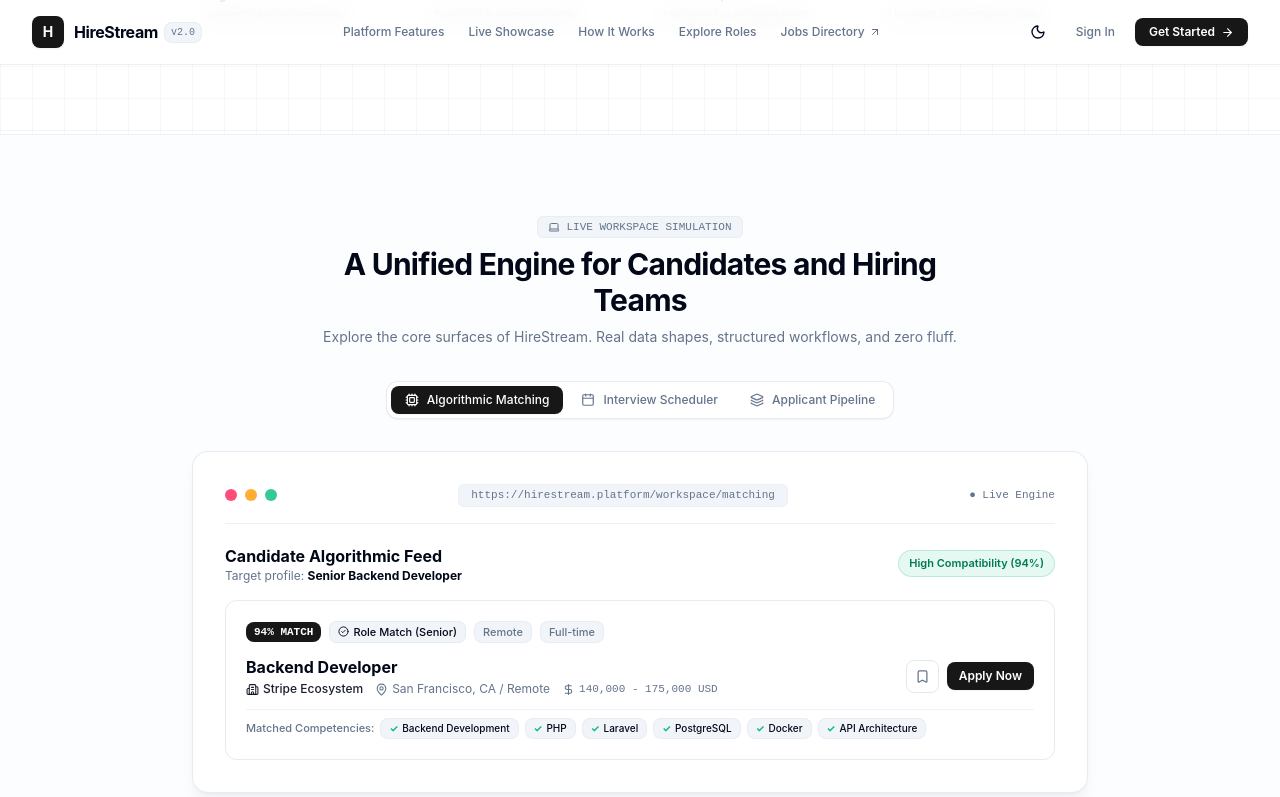
Scenario: LandingPage › toggles interactive showcase tabs between Matching, Scheduler, and Pipeline
(page scrolled)
Expected: the heading "Candidate Algorithmic Feed" is shown, [225,544,462,568]
Expected: the text "94% MATCH" is shown, [246,622,321,642]
# Click Scheduler tab
Click the button "Interview Scheduler" at (650, 400), box [567,386,732,414]
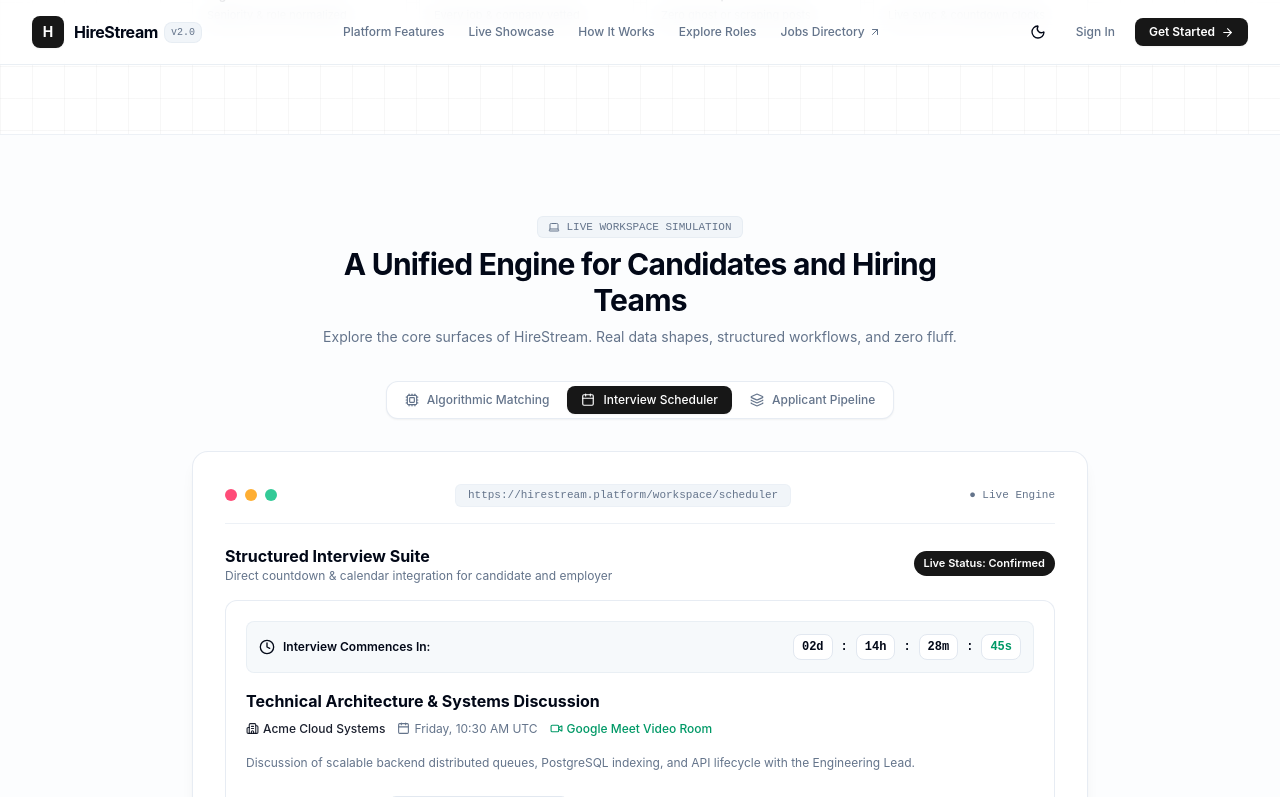
Expected: the heading "Structured Interview Suite" is shown, [225,546,430,566]
Expected: the text "Interview Commences In:" is shown, [283,639,430,655]
# Click Pipeline tab
Click the button "Applicant Pipeline" at (813, 400), box [736,386,889,414]
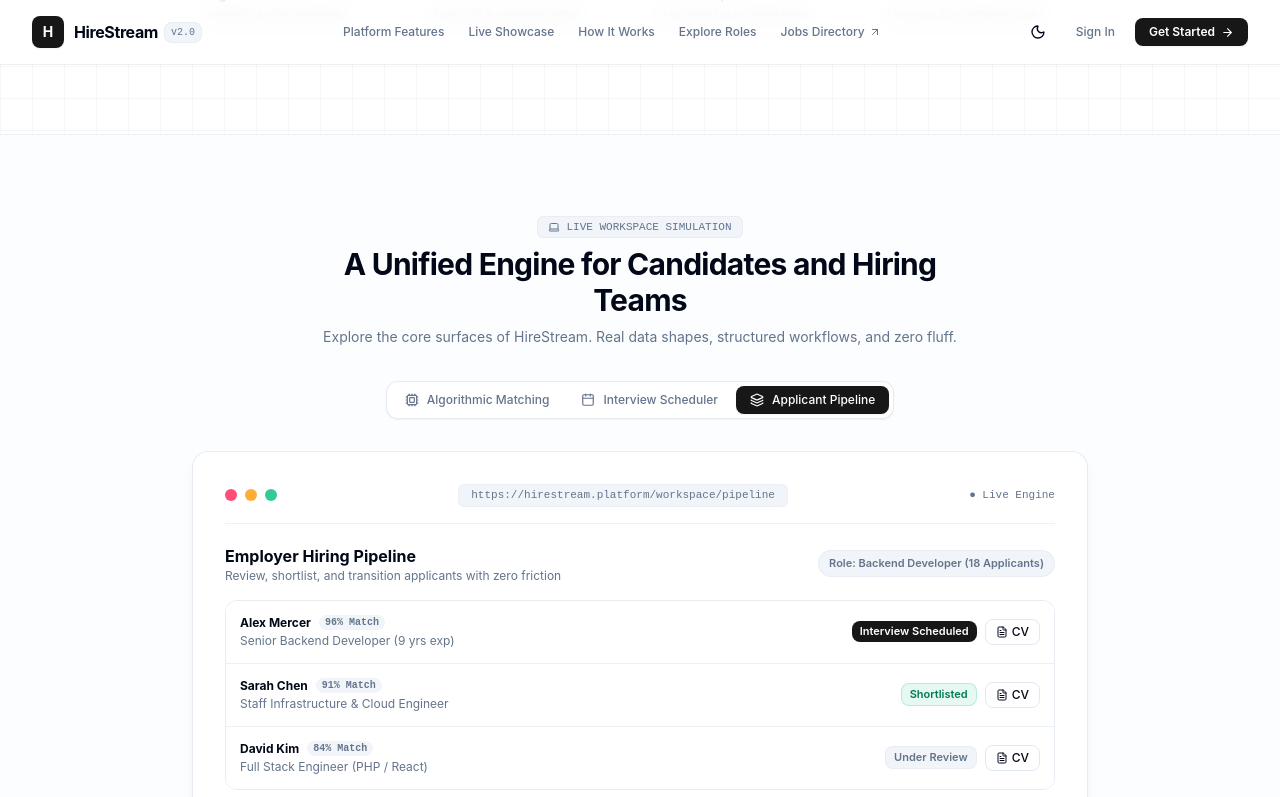
Expected: the heading "Employer Hiring Pipeline" is shown, [225,546,416,566]
Expected: the text "Alex Mercer" is shown, [240,615,311,631]
